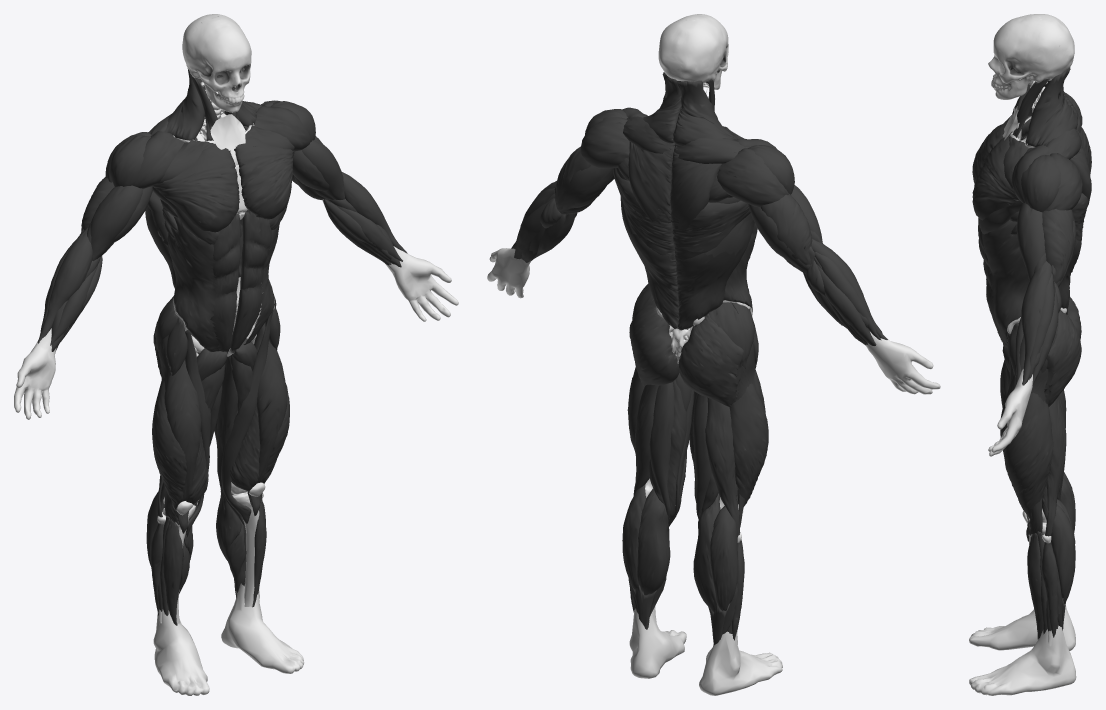
Rendered from corpo-6.glb.
3 views of the same model, side by side, from view 1: azimuth 30°, elevation 25°; view 2: azimuth 150°, elevation 25°; view 3: azimuth 270°, elevation 25° (orthographic).
Visible parts, largest first — view 1: pele, deco, peito_medial, quad_reto_femoral, obliquos, osso, adutores, antebraco_flexores, abdomen_supra, biceps_longa, antebraco_braquiorradial, ombro_frontal (+15 smaller); view 2: pele, panturrilha_gastro, gluteo_maximo, dorsal_inferior, isquio_semitendineo, dorsal_superior, trapezio_inferior, antebraco_extensores, ombro_posterior, isquio_biceps_femoral, osso, quad_vasto_lateral (+12 smaller); view 3: pele, osso, deco, quad_vasto_lateral, obliquos, peito_medial, trapezio_superior, gluteo_maximo, panturrilha_gastro, isquio_biceps_femoral, triceps_lateral, antebraco_braquiorradial (+20 smaller).
Part boxes in pixels (left/top/right/bottom): pele: left=14, top=114, right=458, bottom=695; deco: left=151, top=72, right=273, bottom=625; peito_medial: left=152, top=138, right=294, bottom=232; quad_reto_femoral: left=164, top=322, right=287, bottom=533; obliquos: left=167, top=216, right=279, bottom=351; osso: left=182, top=14, right=251, bottom=112; adutores: left=187, top=338, right=257, bottom=538; antebraco_flexores: left=50, top=198, right=402, bottom=351; abdomen_supra: left=213, top=210, right=271, bottom=294; biceps_longa: left=90, top=139, right=345, bottom=260; antebraco_braquiorradial: left=38, top=172, right=407, bottom=343; ombro_frontal: left=132, top=105, right=310, bottom=188; pele: left=487, top=248, right=940, bottom=695; panturrilha_gastro: left=622, top=484, right=738, bottom=611; gluteo_maximo: left=629, top=303, right=743, bottom=407; dorsal_inferior: left=624, top=225, right=746, bottom=330; isquio_semitendineo: left=649, top=380, right=718, bottom=522; dorsal_superior: left=613, top=168, right=754, bottom=257; trapezio_inferior: left=628, top=142, right=722, bottom=230; antebraco_extensores: left=514, top=188, right=881, bottom=345; ombro_posterior: left=580, top=117, right=788, bottom=207; isquio_biceps_femoral: left=633, top=384, right=739, bottom=536; osso: left=658, top=14, right=728, bottom=89; quad_vasto_lateral: left=627, top=367, right=768, bottom=506; pele: left=969, top=106, right=1076, bottom=695; osso: left=988, top=14, right=1074, bottom=99; deco: left=1007, top=78, right=1065, bottom=639; quad_vasto_lateral: left=1004, top=392, right=1053, bottom=533; obliquos: left=982, top=220, right=1029, bottom=347; peito_medial: left=972, top=121, right=1023, bottom=220; trapezio_superior: left=1025, top=66, right=1078, bottom=146; gluteo_maximo: left=1044, top=297, right=1081, bottom=406; panturrilha_gastro: left=1051, top=472, right=1075, bottom=603; isquio_biceps_femoral: left=1042, top=390, right=1066, bottom=536; triceps_lateral: left=1042, top=209, right=1074, bottom=283; antebraco_braquiorradial: left=1021, top=261, right=1052, bottom=385.
Bounding box in the file's own units: 1.19 × 1.65 × 0.2829.
Materials: 1 (1 with a texture image).
